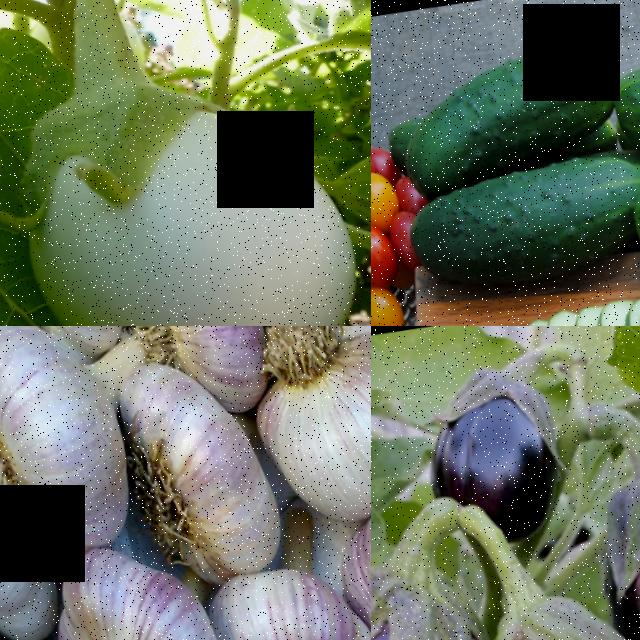cucumber: (380, 133, 640, 310), (375, 27, 625, 183)
eggplant: (0, 42, 371, 326), (398, 351, 572, 522)
garlic: (111, 354, 287, 589), (0, 326, 142, 564), (231, 326, 371, 523), (31, 527, 245, 640), (193, 550, 371, 640), (112, 326, 268, 401), (0, 426, 53, 640), (317, 478, 371, 640)
